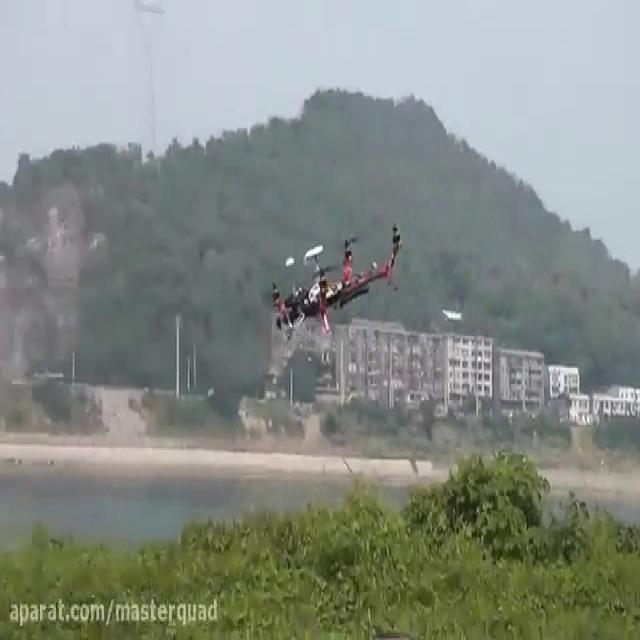drone: (268, 215, 404, 338)
